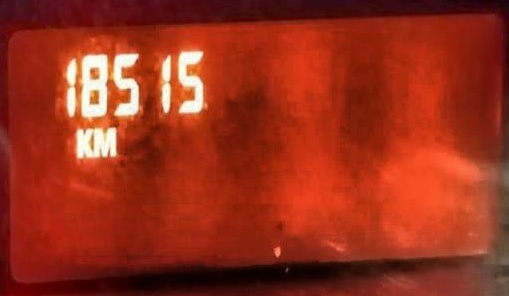1: (61, 54, 77, 118), (157, 49, 171, 114)
5: (111, 49, 140, 117), (176, 48, 204, 114)
8: (79, 50, 108, 117)
X: (92, 124, 116, 159), (73, 124, 91, 161)
